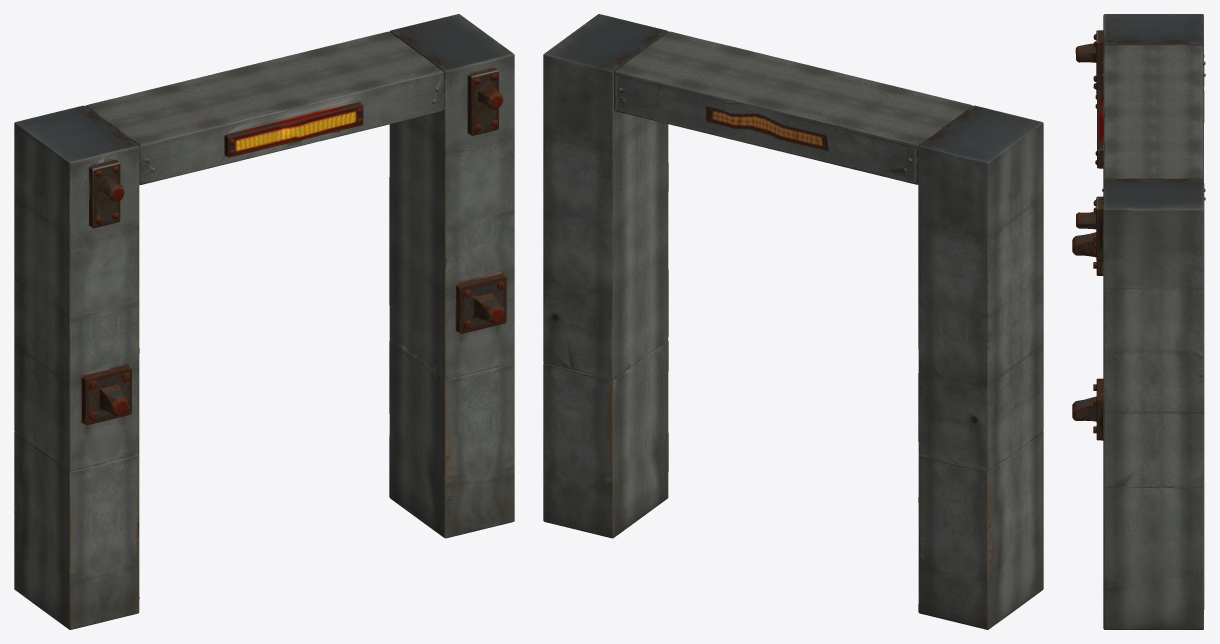
Rendered from vnGate.621f74cc.glb.
The picture shows the model from 3 angles, left to right: view 1: azimuth 30°, elevation 25°; view 2: azimuth 150°, elevation 25°; view 3: azimuth 270°, elevation 25°; orthographic projection. The views are drawn at different scales.
Bounding box in the file's own units: 1.9 × 1.9 × 0.5457.
Materials: 1 (1 with a texture image).
